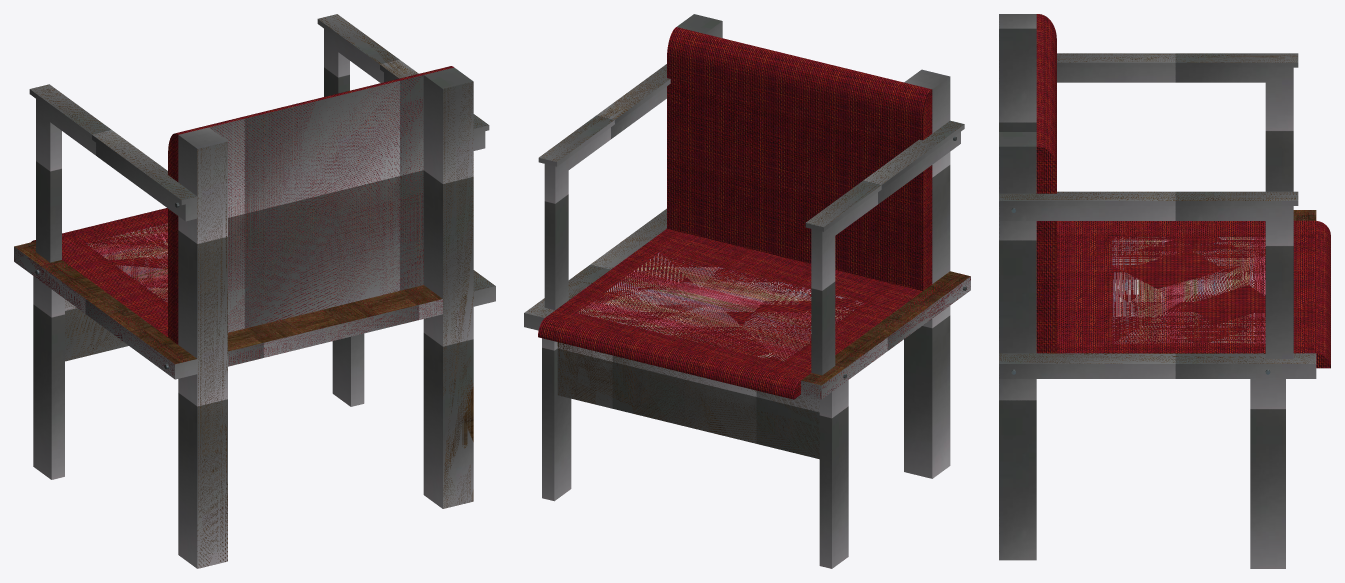
3 renders of one model, left to right at view 1: azimuth 30°, elevation 25°; view 2: azimuth 150°, elevation 25°; view 3: azimuth 270°, elevation 25°, orthographic. The views are drawn at different scales.
Parts seen in each view (by area): view 1: mesh1_mesh1-geometry; view 2: mesh1_mesh1-geometry; view 3: mesh1_mesh1-geometry.
Part boxes in pixels (box(x1,y1,x2,y2)): mesh1_mesh1-geometry: box(14, 14, 495, 568); mesh1_mesh1-geometry: box(524, 14, 970, 568); mesh1_mesh1-geometry: box(999, 14, 1330, 568).
Size of the model in its own units: 0.5476 by 0.6768 by 0.4921.
